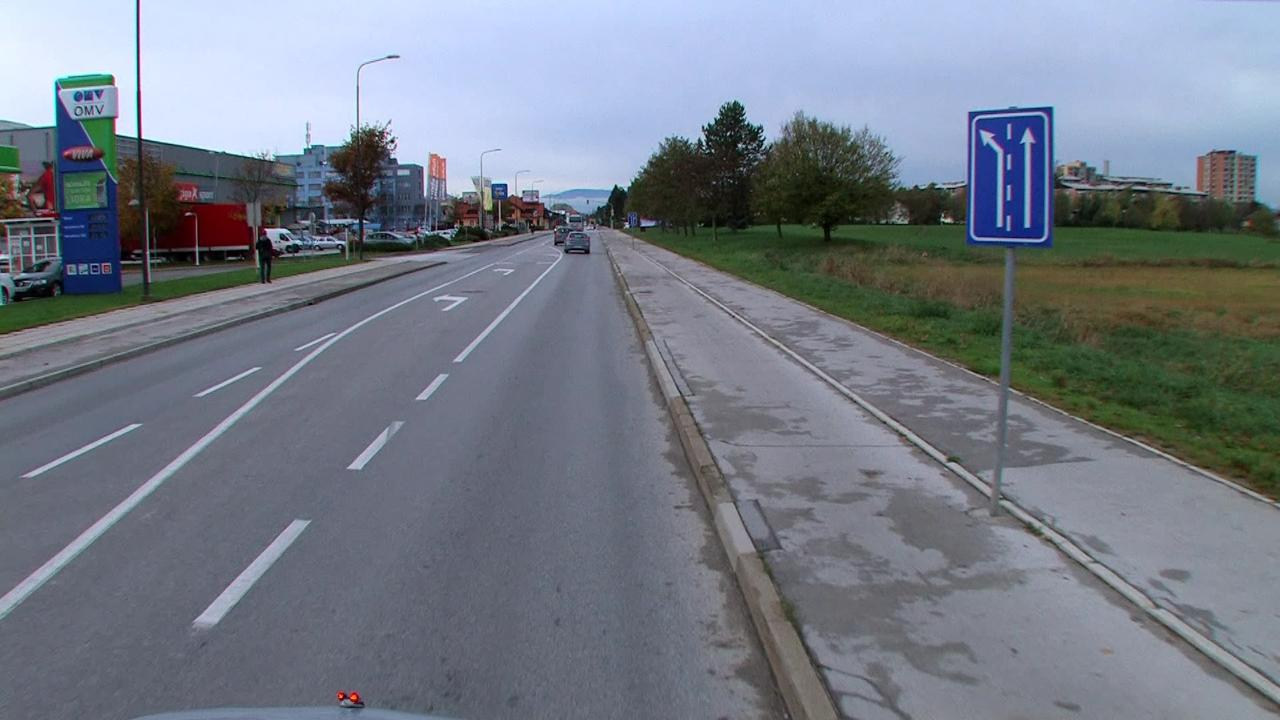Rectangle: (968, 109, 1054, 250)
